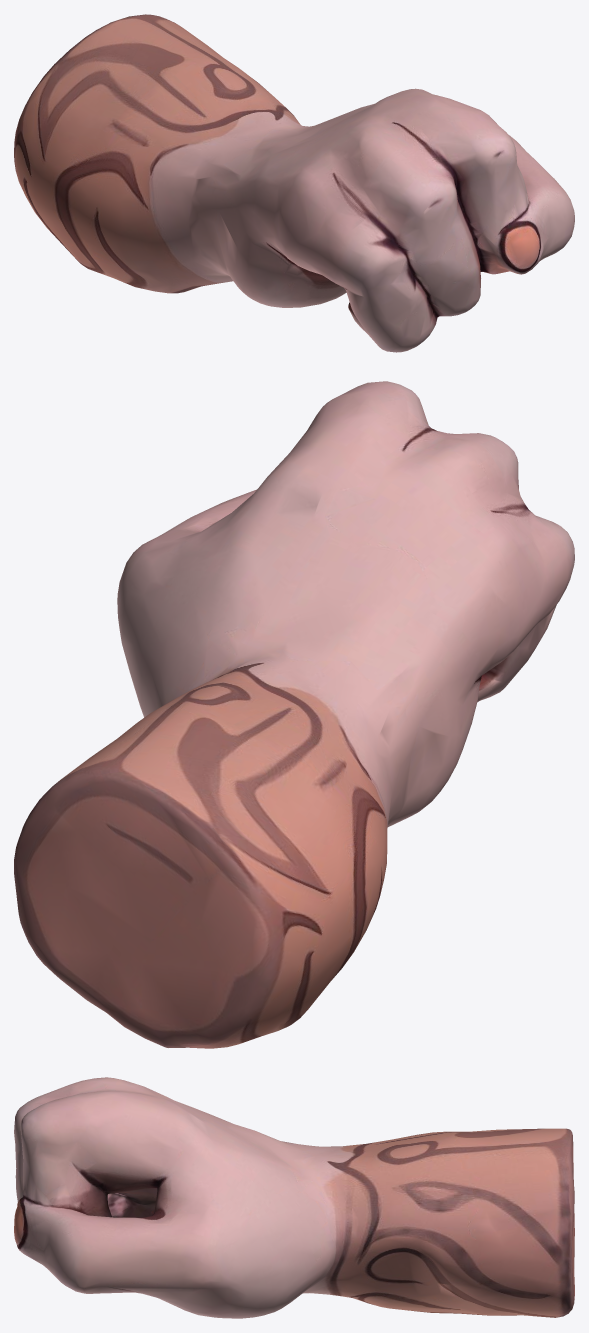
Rendered from fist.glb.
3 renders of one model, top to bottom at view 1: azimuth 30°, elevation 25°; view 2: azimuth 150°, elevation 25°; view 3: azimuth 270°, elevation 25°, orthographic. The views are drawn at different scales.
Visible parts, largest first — view 1: Mesh_0; view 2: Mesh_0; view 3: Mesh_0.
Boxes of the visible parts, left/top/right/bottom form: Mesh_0: left=14, top=14, right=574, bottom=352; Mesh_0: left=14, top=381, right=574, bottom=1048; Mesh_0: left=14, top=1077, right=574, bottom=1318.
Bounding box in the file's own units: 1.23 × 1.05 × 2.
Materials: 1 (1 with a texture image).
